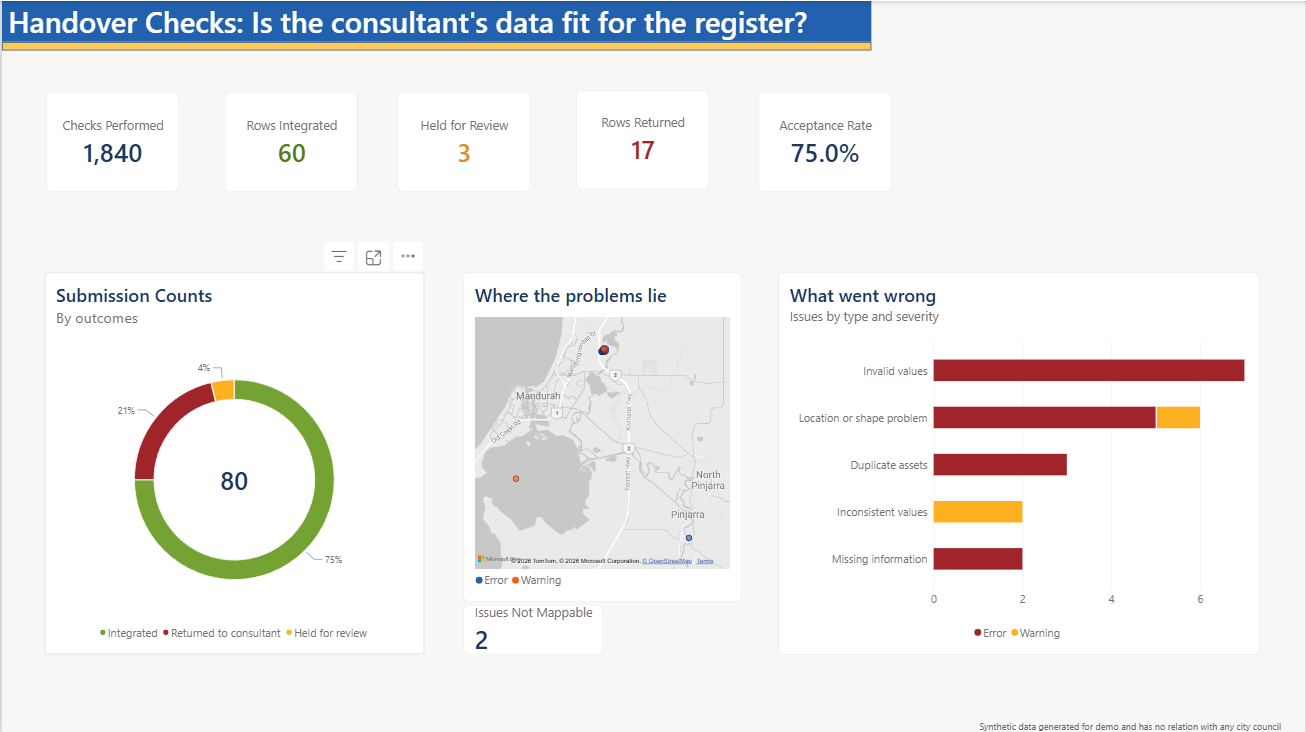

This screenshot's page, from the dashboard's own definition file:
{"tool":"powerbi","page":{"name":"Validation","canvas":[1920,1080],"ordinal":0},"visuals":[{"type":"shape","box":[0,0,1280,60],"z":0},{"type":"shape","box":[0,60,1280,12],"z":1000},{"type":"textbox","box":[10,0,1279.1,60.7],"z":2000},{"type":"textbox","box":[1439.3,1058.3,480.4,22.1],"z":3000},{"type":"cardVisual","fields":{"Data":["_Measures.Rows Integrated"]},"box":[325.8,132.5,200,150],"z":4000},{"type":"cardVisual","fields":{"Data":["_Measures.Checks Performed"]},"box":[62.6,132.5,200,150],"z":5000},{"type":"cardVisual","fields":{"Data":["_Measures.Rows Held for Review"]},"box":[579.8,132.5,200,150],"z":6000},{"type":"cardVisual","fields":{"Data":["_Measures.First-Pass Acceptance %"]},"box":[1111.7,132.5,200,150],"z":7000},{"type":"cardVisual","fields":{"Data":["_Measures.Rows Returned"]},"box":[842.9,128.8,200,150],"z":8000},{"type":"donutChart","title":"Submission Counts","fields":{"Category":["submission_outcome.outcome"],"Y":["CountNonNull(submission_outcome.submission_row)"]},"box":[62.6,399.4,559.5,563.2],"z":9000},{"type":"barChart","title":"What went wrong","fields":{"Category":["dq_exceptions.Issue Type"],"Series":["dq_exceptions.severity"],"Y":["_Measures.Issues Found"]},"box":[1143,399.4,708.6,563.2],"z":10000},{"type":"map","title":"Where the problems lie","fields":{"Series":["dq_exceptions.severity"],"X":["dq_exceptions.longitude"],"Y":["dq_exceptions.latitude"]},"box":[679.1,399.4,410.4,485.9],"z":11000},{"type":"cardVisual","fields":{"Data":["_Measures.Issues Not Mappable"]},"box":[679.1,889,206.1,73.6],"z":12000}]}

Visuals, with their boxes in screenshot pixels (x1, y1, x2, y2), scaled from the page's 1920x1080 canvas onto the 1306x732 screenshot:
shape: 0:0:871:41
shape: 0:41:871:49
textbox: 7:0:877:41
textbox: 979:717:1305:731
cardVisual - _Measures.Rows Integrated: 222:90:358:191
cardVisual - _Measures.Checks Performed: 43:90:179:191
cardVisual - _Measures.Rows Held for Review: 394:90:530:191
cardVisual - _Measures.First-Pass Acceptance %: 756:90:892:191
cardVisual - _Measures.Rows Returned: 573:87:709:189
"Submission Counts" donutChart: 43:271:423:652
"What went wrong" barChart: 777:271:1259:652
"Where the problems lie" map: 462:271:741:600
cardVisual - _Measures.Issues Not Mappable: 462:603:602:652
